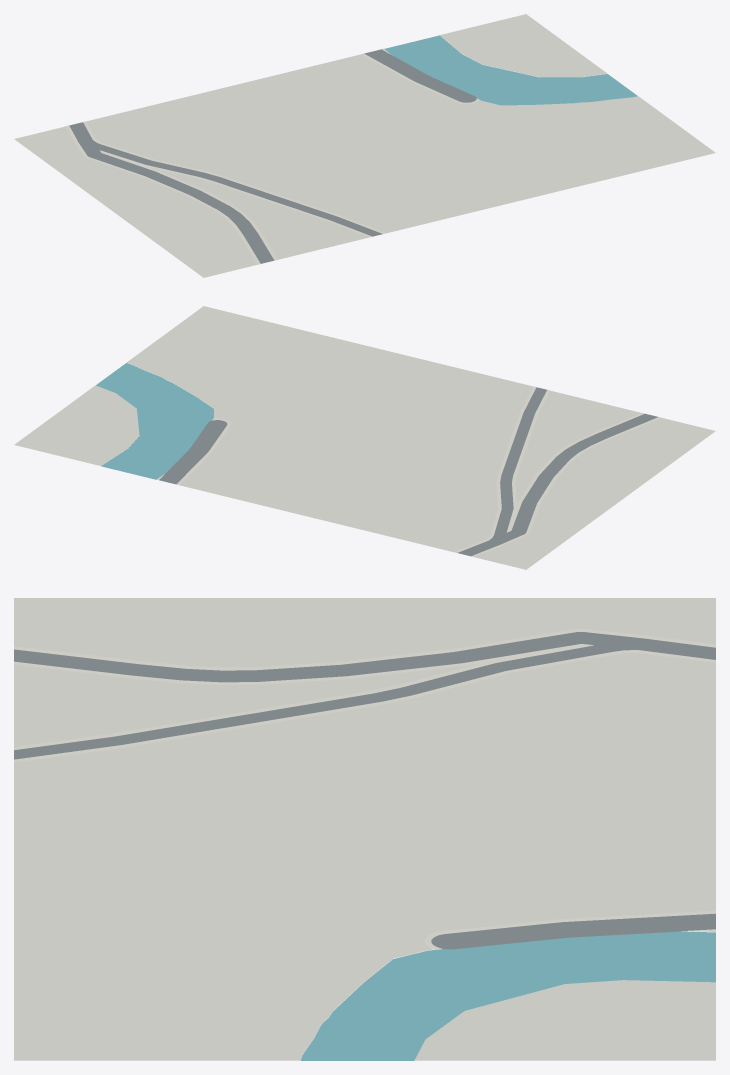
3 renders of one model, top to bottom at view 1: azimuth 30°, elevation 25°; view 2: azimuth 150°, elevation 25°; view 3: azimuth 270°, elevation 25°, orthographic. The views are drawn at different scales.
Visible parts, largest first — view 1: city; view 2: city; view 3: city.
Boxes of the visible parts, x1,y1,x2,y2 form: city: [14, 14, 715, 277]; city: [14, 306, 715, 569]; city: [14, 598, 715, 1060].
Size of the model in its own units: 500 by 0.4 by 321.
